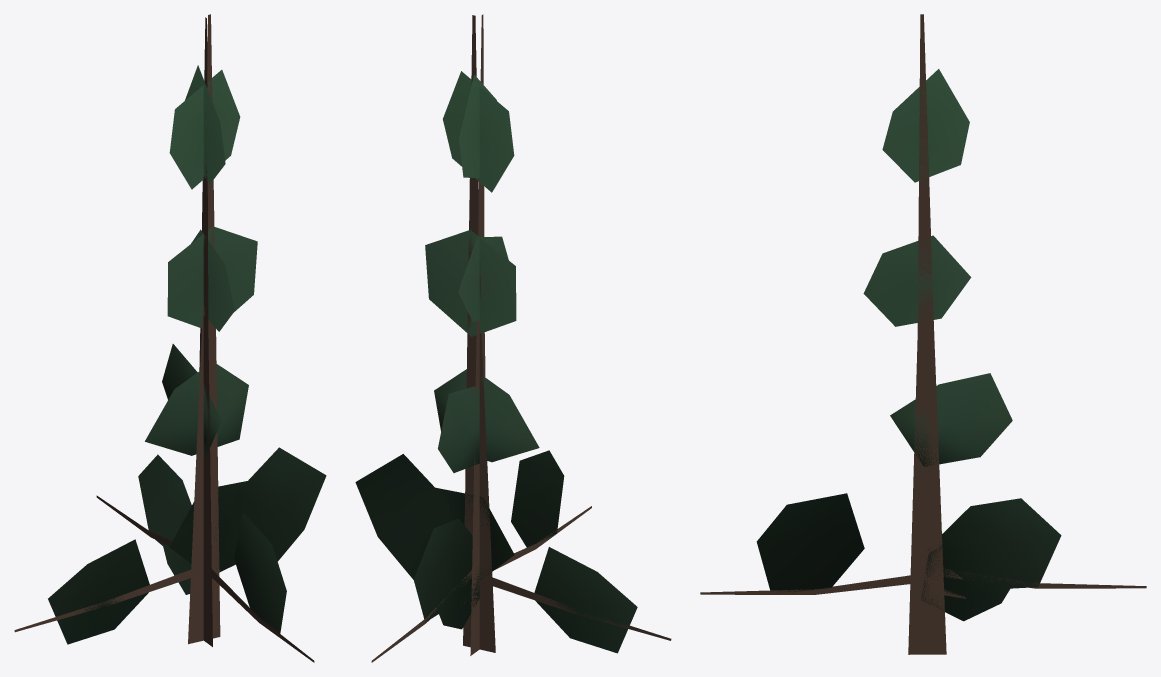
The model's file is spruce-a.card.glb.
3 views of the same model, side by side, from view 1: azimuth 30°, elevation 25°; view 2: azimuth 150°, elevation 25°; view 3: azimuth 270°, elevation 25° (orthographic). The views are drawn at different scales.
Size of the model in its own units: 6.01 by 11.5 by 7.26.
